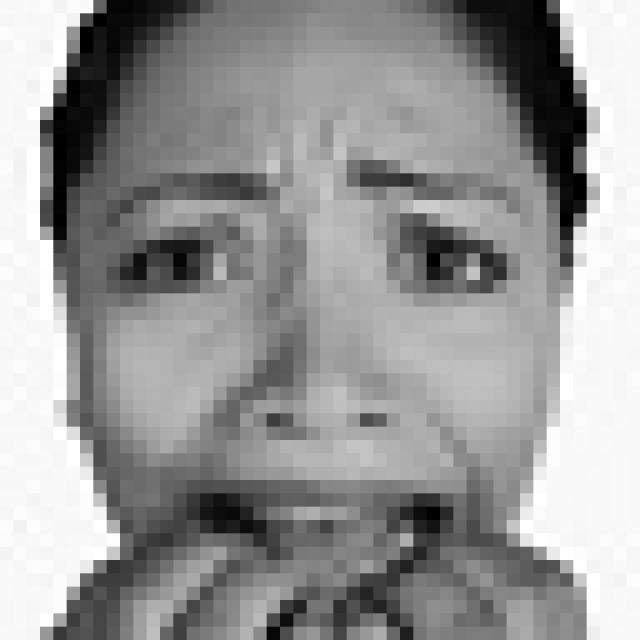fear: (103, 128, 534, 590)
